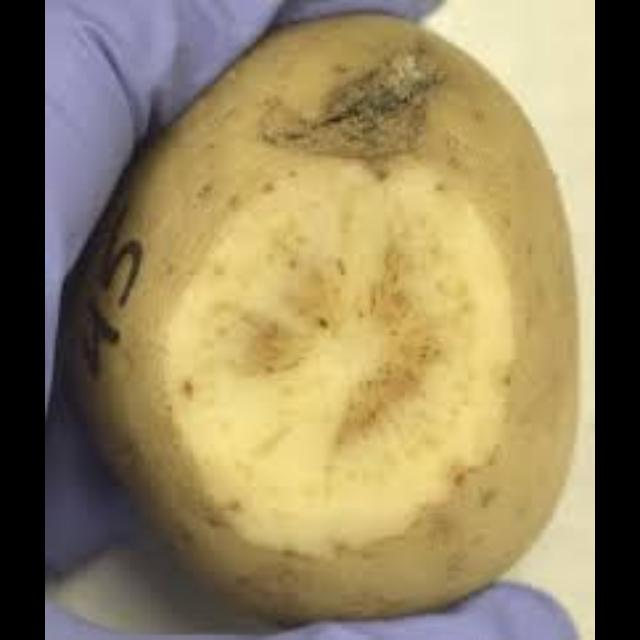Diseased-fungal potato: (88, 21, 570, 610)
